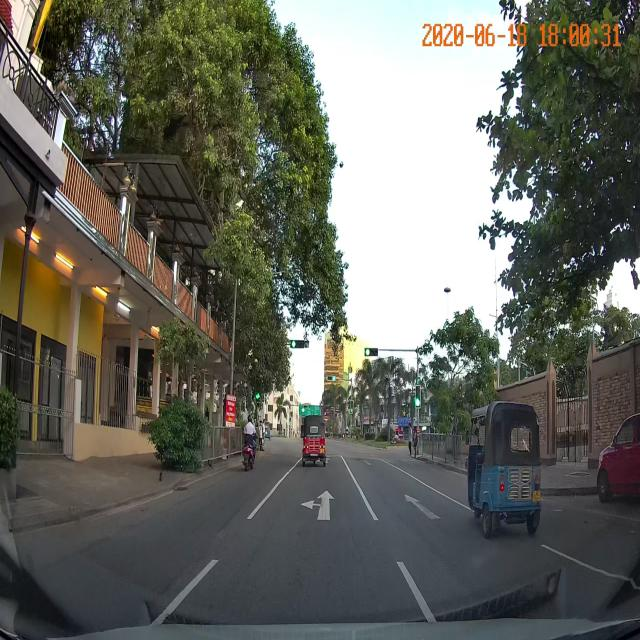forward_lft: (240, 470, 382, 524)
